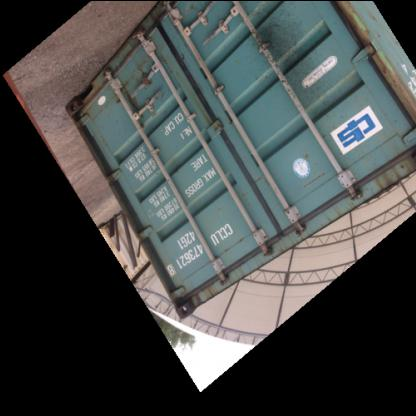Damage: (242, 16, 332, 122), (112, 53, 168, 111), (126, 8, 160, 50)
